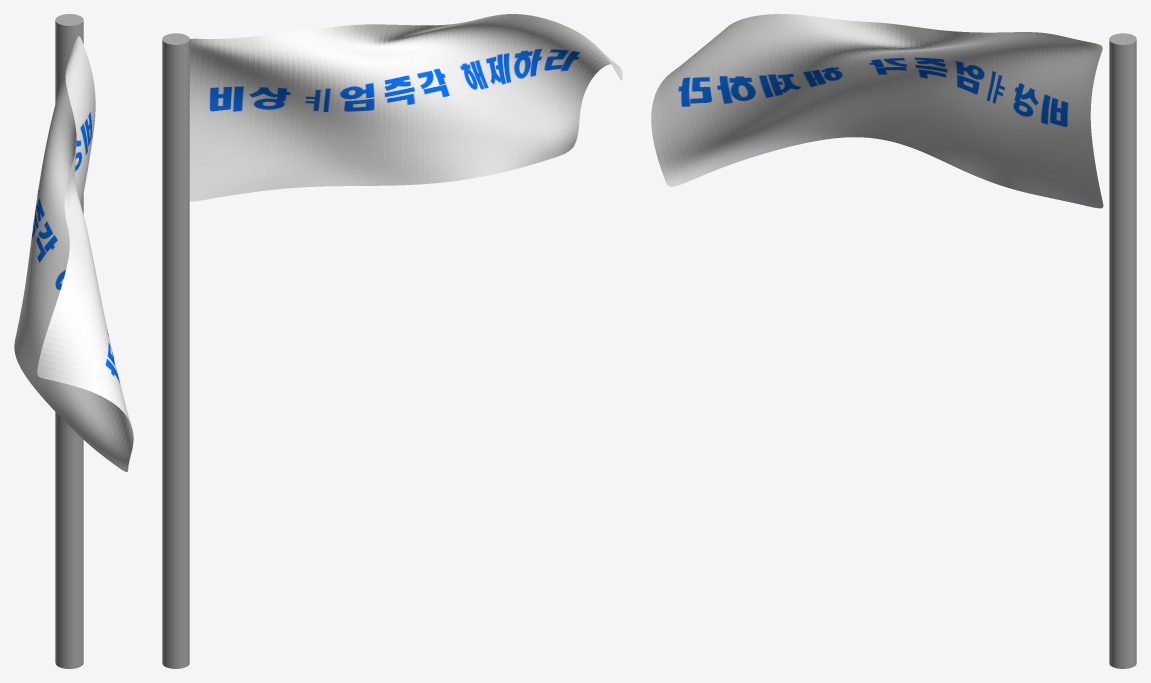
File: flag.obj
3 views of the same model, side by side, from view 1: azimuth 30°, elevation 25°; view 2: azimuth 150°, elevation 25°; view 3: azimuth 270°, elevation 25° (orthographic). The views are drawn at different scales.
Visible parts, largest first — view 1: Plane, Cylinder; view 2: Plane, Cylinder; view 3: Plane, Cylinder.
Part boxes in pixels (box(x1,y1,x2,y2)): Plane: box(14, 36, 133, 471); Cylinder: box(55, 14, 83, 668); Plane: box(189, 14, 622, 201); Cylinder: box(162, 33, 189, 668); Plane: box(651, 14, 1103, 208); Cylinder: box(1109, 33, 1136, 668).
Size of the model in its own units: 2.71 by 6.47 by 4.56.
Materials: 2 (1 with a texture image).
